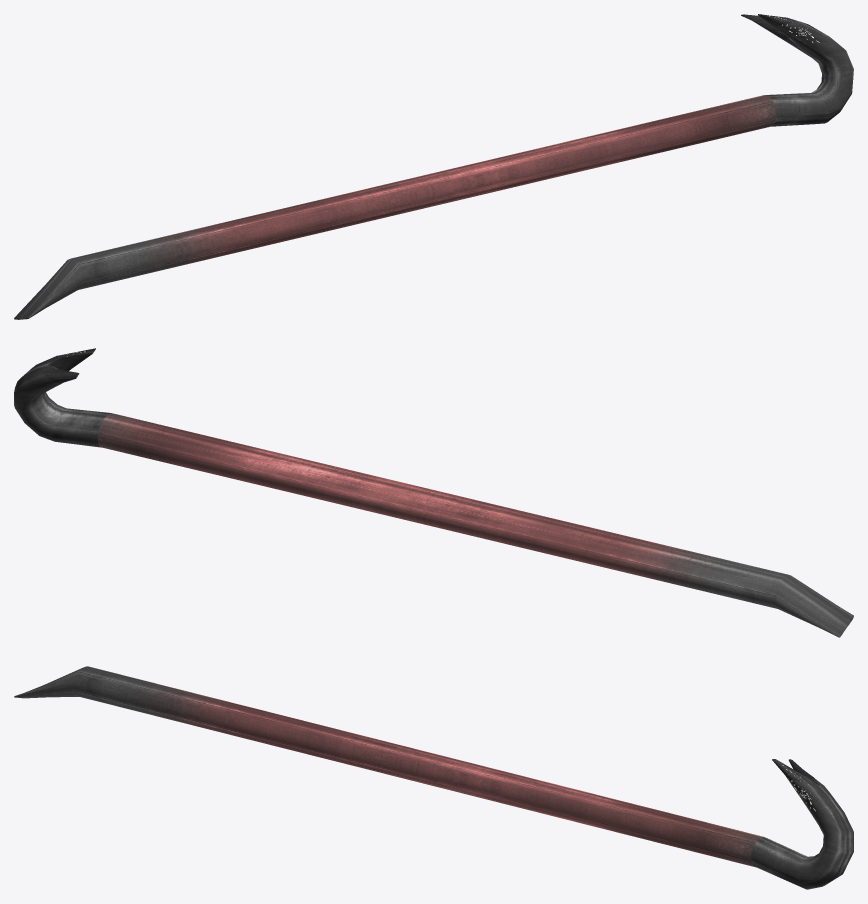
File: Trace-Evidence-Paint.gltf
The picture shows the model from 3 angles, top to bottom: view 1: azimuth 30°, elevation 25°; view 2: azimuth 150°, elevation 25°; view 3: azimuth 330°, elevation 25°; orthographic projection. The views are drawn at different scales.
Parts seen in each view (by area): view 1: 9.0.243.0; view 2: 9.0.243.0; view 3: 9.0.243.0.
Boxes of the visible parts, x1=… form: 9.0.243.0: x1=14, y1=14, x2=853, y2=319; 9.0.243.0: x1=14, y1=348, x2=853, y2=637; 9.0.243.0: x1=14, y1=666, x2=853, y2=889.
Bounding box in the file's own units: 11.02 × 1.46 × 0.9473.
3 materials, 2 textured.
